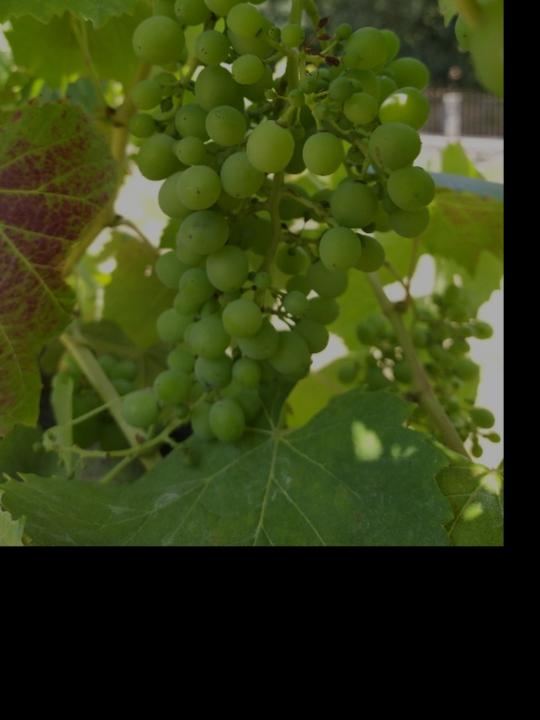grape: (121, 0, 439, 457)
